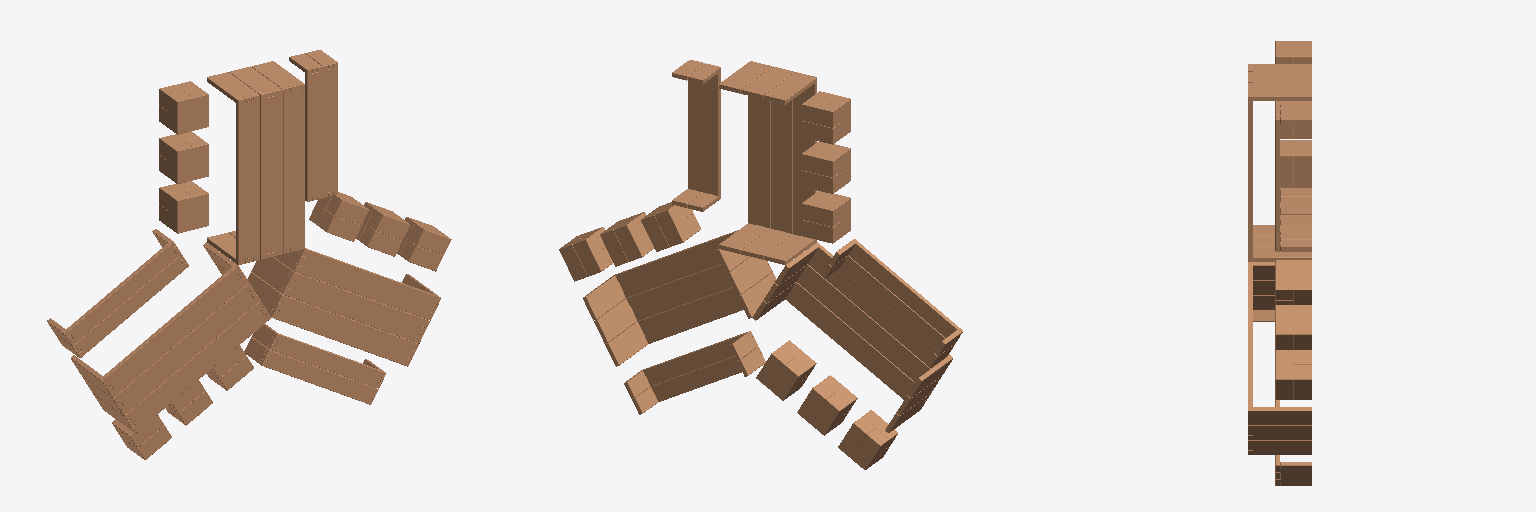
The picture shows the model from 3 angles: view 1: azimuth 30°, elevation 25°; view 2: azimuth 150°, elevation 25°; view 3: azimuth 270°, elevation 25°; orthographic projection.
Parts seen in each view (by area): view 1: VIFS616, VIFS056, VIFS196, VIFS336, VIFS896, VIFS1176, VIFS1036, VIFS756, VIFS476, VIFS2096, VIFS1956, VIFS1396 (+8 smaller); view 2: VIFS200, VIFS340, VIFS760, VIFS060, VIFS620, VIFS1180, VIFS900, VIFS1040, VIFS1820, VIFS1680, VIFS1960, VIFS480 (+14 smaller); view 3: VIFS1213, VIFS933, VIFS1073, VIFS752, VIFS1172, VIFS560, VIFS700, VIFS840, VIFS1613, VIFS2092.
Boxes of the visible parts, x1=… form: VIFS616: x1=261, y1=90, x2=282, y2=259; VIFS056: x1=102, y1=266, x2=248, y2=397; VIFS196: x1=114, y1=283, x2=259, y2=414; VIFS336: x1=125, y1=301, x2=270, y2=432; VIFS896: x1=272, y1=296, x2=418, y2=365; VIFS1176: x1=295, y1=249, x2=440, y2=319; VIFS1036: x1=283, y1=272, x2=429, y2=342; VIFS756: x1=284, y1=85, x2=304, y2=253; VIFS476: x1=239, y1=95, x2=259, y2=264; VIFS2096: x1=323, y1=63, x2=337, y2=197; VIFS1956: x1=308, y1=67, x2=322, y2=201; VIFS1396: x1=270, y1=334, x2=385, y2=388; VIFS200: x1=797, y1=265, x2=929, y2=382; VIFS340: x1=785, y1=283, x2=914, y2=399; VIFS760: x1=748, y1=96, x2=769, y2=227; VIFS060: x1=808, y1=247, x2=945, y2=367; VIFS620: x1=771, y1=100, x2=791, y2=233; VIFS1180: x1=615, y1=233, x2=733, y2=297; VIFS900: x1=638, y1=288, x2=743, y2=343; VIFS1040: x1=627, y1=264, x2=732, y2=320; VIFS1820: x1=849, y1=244, x2=956, y2=337; VIFS1680: x1=840, y1=256, x2=944, y2=348; VIFS1960: x1=703, y1=74, x2=717, y2=195; VIFS480: x1=793, y1=84, x2=814, y2=235; VIFS1213: x1=1248, y1=411, x2=1311, y2=424; VIFS933: x1=1248, y1=441, x2=1311, y2=454; VIFS1073: x1=1248, y1=426, x2=1311, y2=439; VIFS752: x1=1248, y1=97, x2=1252, y2=261; VIFS1172: x1=1248, y1=262, x2=1252, y2=410; VIFS560: x1=1248, y1=64, x2=1311, y2=74; VIFS700: x1=1248, y1=75, x2=1311, y2=85; VIFS840: x1=1248, y1=86, x2=1311, y2=96; VIFS1613: x1=1280, y1=197, x2=1311, y2=213; VIFS2092: x1=1276, y1=120, x2=1279, y2=251.
Size of the model in its own units: 4955 by 4295 by 707.